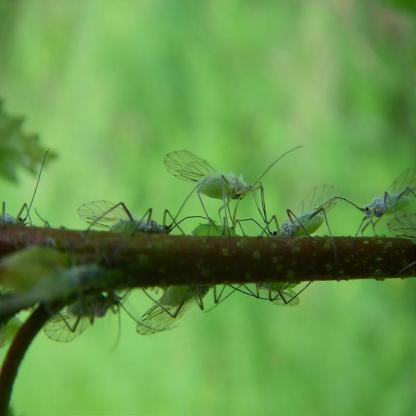aphid: (168, 146, 285, 230), (126, 269, 242, 343), (27, 279, 135, 358), (264, 184, 354, 248), (353, 167, 416, 239), (77, 200, 186, 240), (248, 266, 313, 329), (2, 185, 66, 237), (186, 207, 252, 245)
